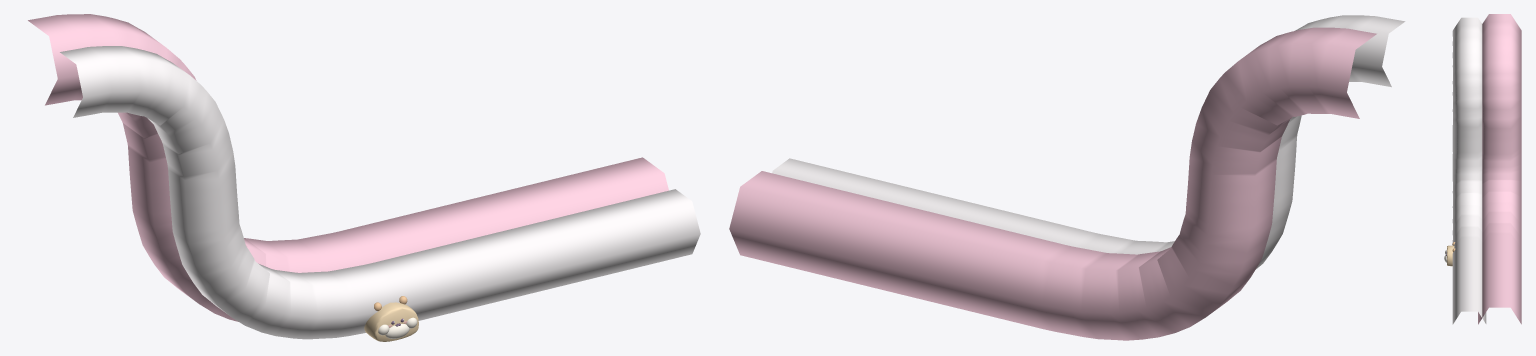
Rendered from decor_6_candy.glb.
3 views of the same model, side by side, from view 1: azimuth 30°, elevation 25°; view 2: azimuth 150°, elevation 25°; view 3: azimuth 270°, elevation 25° (orthographic). The views are drawn at different scales.
Parts seen in each view (by area): view 1: decor_6_candy; view 2: decor_6_candy; view 3: decor_6_candy.
Boxes of the visible parts, left/top/right/bottom form: decor_6_candy: left=28, top=14, right=700, bottom=341; decor_6_candy: left=729, top=15, right=1405, bottom=340; decor_6_candy: left=1444, top=14, right=1521, bottom=324.
Size of the model in its own units: 18.06 by 9.9 by 3.9.
